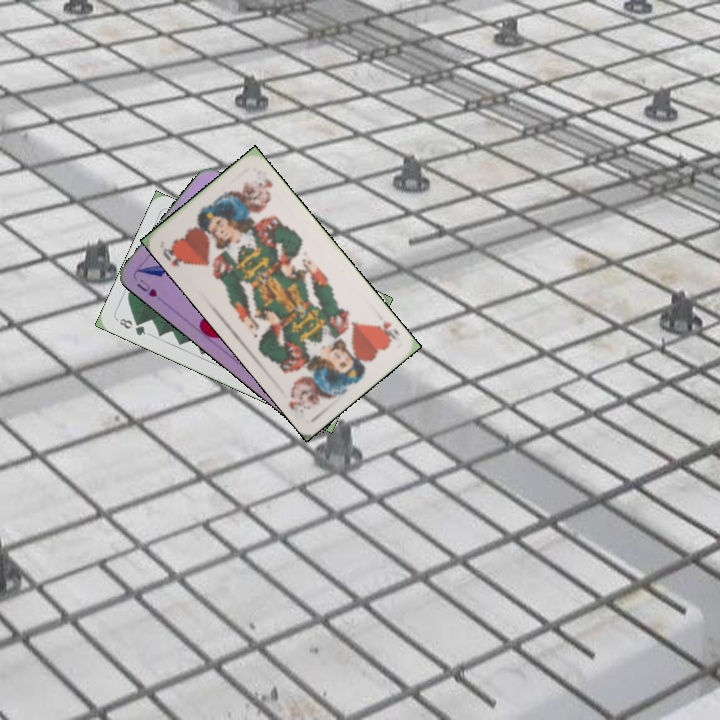G8: (113, 314, 148, 338)
HO: (372, 316, 402, 345), (159, 242, 188, 270)
HU: (133, 275, 160, 300)
